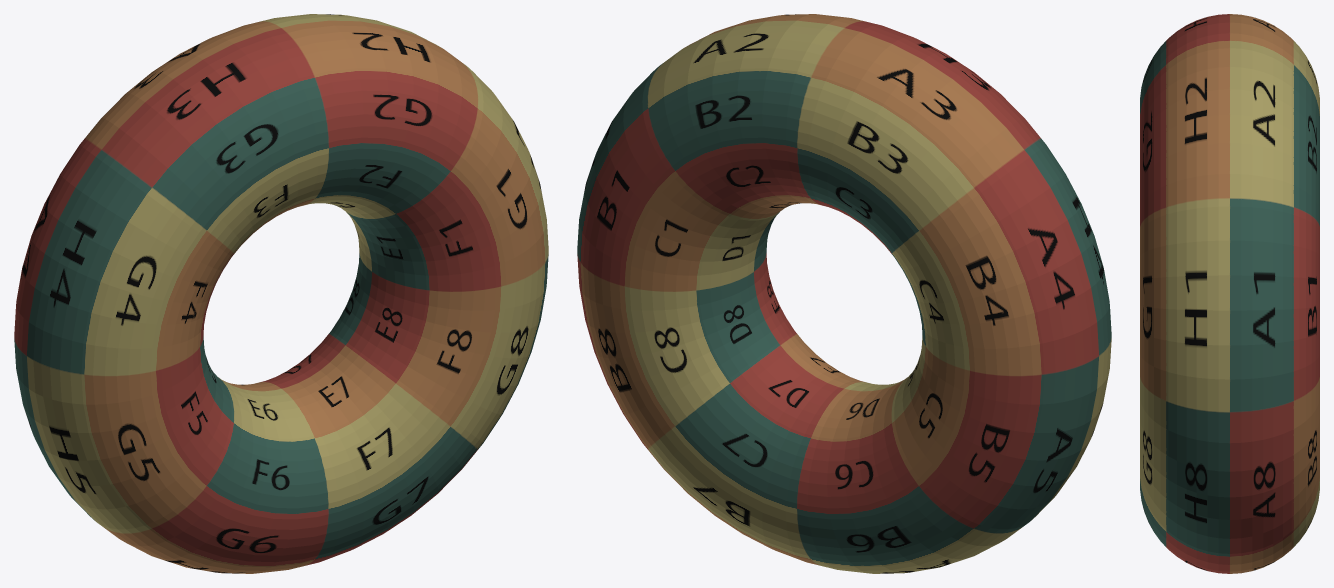
File: texture_torus_R9_r21.glb
3 views of the same model, side by side, from view 1: azimuth 30°, elevation 25°; view 2: azimuth 150°, elevation 25°; view 3: azimuth 270°, elevation 25° (orthographic). The views are drawn at different scales.
Visible parts, largest first — view 1: world; view 2: world; view 3: world.
Boxes of the visible parts, <box> form: world: <box>14,14,548,573</box>; world: <box>577,14,1111,573</box>; world: <box>1140,14,1319,573</box>.
Bounding box in the file's own units: 23.6 × 23.55 × 7.59.
1 material, 1 textured.
